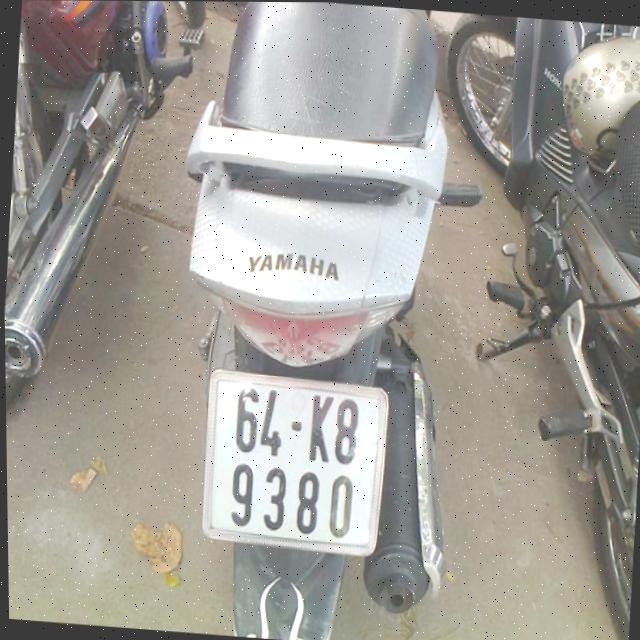motorcycle: (159, 1, 484, 640), (406, 11, 640, 640), (0, 0, 209, 456)
plate: (193, 367, 390, 561)
